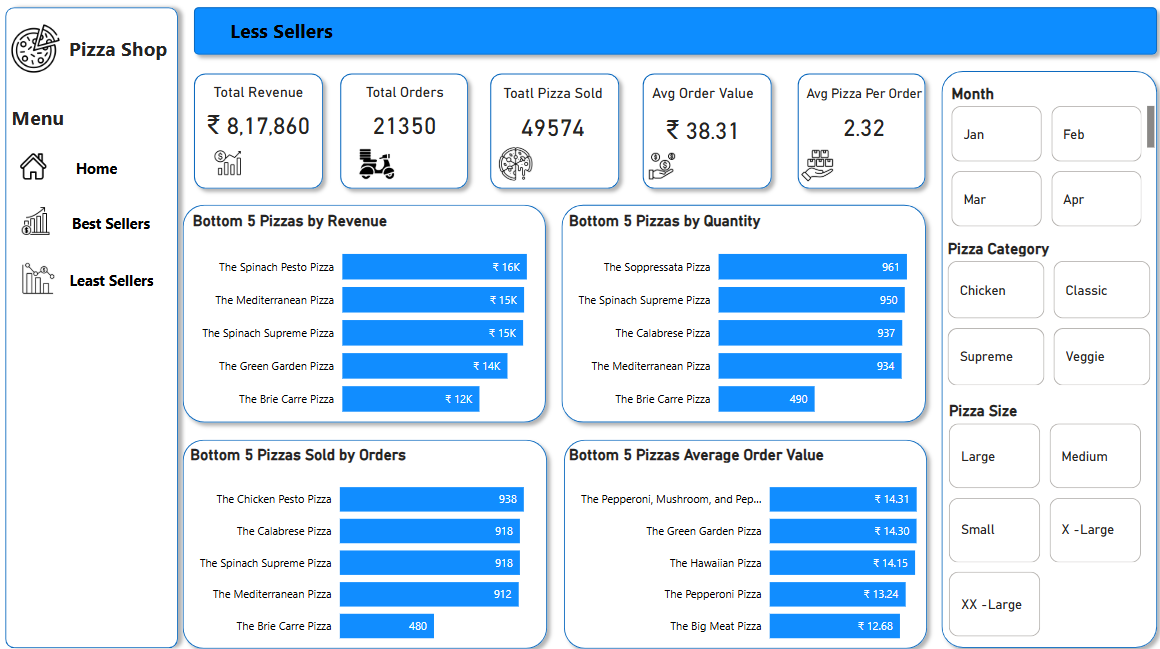

What the dashboard file says about the page in this screenshot:
{"tool":"powerbi","page":{"name":"Less Sellers","canvas":[1280,720],"ordinal":2},"visuals":[{"type":"shape","box":[207.1,0,1072.9,70],"z":0},{"type":"shape","box":[0,0,207.1,720],"z":1000},{"type":"shape","box":[194.9,473.4,417.2,247],"z":2000},{"type":"shape","box":[207.2,72.7,159.2,144.1],"z":3000},{"type":"shape","box":[194.9,216.8,415.8,256.6],"z":4000},{"type":"shape","box":[1025.7,70,254.3,650],"z":5000},{"type":"shape","box":[609.3,216.8,417.2,256.6],"z":6000},{"type":"shape","box":[612,473.4,415.8,247],"z":7000},{"type":"shape","box":[366.4,72.7,157.8,144.1],"z":8000},{"type":"shape","box":[531,72.7,159.2,144.1],"z":9000},{"type":"shape","box":[698.5,72.7,159.2,144.1],"z":10000},{"type":"shape","box":[868.6,72.7,157.8,144.1],"z":11000},{"type":"card","title":"Total Revenue","fields":{"Values":["pizza_sales.Total Revenue"]},"box":[207.2,93.3,159.2,76.8],"z":12000},{"type":"textbox","box":[142.9,15.7,338.6,50],"z":13000},{"type":"image","box":[219.6,160.5,67.2,38.4],"z":14000},{"type":"card","title":"Total Orders","fields":{"Values":["pizza_sales.Total Orders"]},"box":[377.4,93.3,137.2,76.8],"z":15000},{"type":"card","title":"Toatl Pizza Sold","fields":{"Values":["pizza_sales.Total Pizzas Sold"]},"box":[509.1,94.7,199,79.6],"z":16000},{"type":"card","title":"Avg Order Value","fields":{"Values":["pizza_sales.Average Order Value"]},"box":[698.5,94.7,149.6,85.1],"z":17000},{"type":"card","title":"Avg Pizza Per Order","fields":{"Values":["pizza_sales.Avg Pizzas Per Order"]},"box":[874.1,94.7,152.3,79.6],"z":18000},{"type":"image","box":[874.1,160.5,49.4,45.3],"z":19000},{"type":"image","box":[708.1,160.5,41.2,45.3],"z":20000},{"type":"image","box":[388.3,152.3,54.9,57.6],"z":21000},{"type":"image","box":[544.8,157.8,46.7,46.7],"z":22000},{"type":"image","box":[11.4,15.7,62.9,78.6],"z":23000},{"type":"image","box":[20,160,38.6,45.7],"z":24000},{"type":"image","box":[15.7,222.9,54.3,40],"z":25000},{"type":"image","box":[20,278.6,50,55.7],"z":26000},{"type":"advancedSlicerVisual","title":"Pizza Category","fields":{"Values":["pizza_sales.pizza_category"]},"box":[1037.1,262.9,232.9,165.7],"z":27000},{"type":"advancedSlicerVisual","title":"Pizza Size","fields":{"Values":["pizza_sales.Pizza Size Full"]},"box":[1038.6,441.4,220,264.3],"z":28000},{"type":"actionButton","title":"HOME","box":[74.3,217.1,101.4,55.7],"z":29000},{"type":"textbox","box":[74.3,34.3,135.7,42.9],"z":30000},{"type":"textbox","box":[11.4,110,94.3,42.9],"z":31000},{"type":"actionButton","box":[75.7,287.1,100,40],"z":32000},{"type":"actionButton","box":[58.6,164.3,100,40],"z":33000},{"type":"barChart","title":"Bottom 5 Pizzas by Revenue","fields":{"Category":["pizza_sales.pizza_name"],"Y":["pizza_sales.Total Revenue"]},"box":[210,232.9,430,240],"z":34000},{"type":"barChart","title":"Bottom 5 Pizzas by Quantity","fields":{"Category":["pizza_sales.pizza_name"],"Y":["pizza_sales.Total Pizzas Sold"]},"box":[621.4,232.9,405.7,240],"z":35000},{"type":"barChart","title":"Bottom 5 Pizzas Sold by Orders","fields":{"Category":["pizza_sales.pizza_name"],"Y":["pizza_sales.Total Orders"]},"box":[207.1,488.6,401.4,231.4],"z":36000},{"type":"barChart","title":"Bottom 5 Pizzas Average Order Value","fields":{"Category":["pizza_sales.pizza_name"],"Y":["pizza_sales.Average Order Value"]},"box":[621.4,488.6,430,231.4],"z":37000},{"type":"advancedSlicerVisual","title":"Month","fields":{"Values":["pizza_sales.Month_Short"]},"box":[1040,92.9,232.9,162.9],"z":38000}]}

Visuals, with their boxes on the page's 1280x720 design canvas (x1, y1, x2, y2). These are canvas units, not pixel positions in the 1160x649 screenshot, which may show the page scaled, cropped or inside an application window:
shape: x1=207 y1=0 x2=1280 y2=70
shape: x1=0 y1=0 x2=207 y2=720
shape: x1=195 y1=473 x2=612 y2=720
shape: x1=207 y1=73 x2=366 y2=217
shape: x1=195 y1=217 x2=611 y2=473
shape: x1=1026 y1=70 x2=1280 y2=720
shape: x1=609 y1=217 x2=1026 y2=473
shape: x1=612 y1=473 x2=1028 y2=720
shape: x1=366 y1=73 x2=524 y2=217
shape: x1=531 y1=73 x2=690 y2=217
shape: x1=698 y1=73 x2=858 y2=217
shape: x1=869 y1=73 x2=1026 y2=217
"Total Revenue" card: x1=207 y1=93 x2=366 y2=170
textbox: x1=143 y1=16 x2=482 y2=66
image: x1=220 y1=160 x2=287 y2=199
"Total Orders" card: x1=377 y1=93 x2=515 y2=170
"Toatl Pizza Sold" card: x1=509 y1=95 x2=708 y2=174
"Avg Order Value" card: x1=698 y1=95 x2=848 y2=180
"Avg Pizza Per Order" card: x1=874 y1=95 x2=1026 y2=174
image: x1=874 y1=160 x2=924 y2=206
image: x1=708 y1=160 x2=749 y2=206
image: x1=388 y1=152 x2=443 y2=210
image: x1=545 y1=158 x2=592 y2=204
image: x1=11 y1=16 x2=74 y2=94
image: x1=20 y1=160 x2=59 y2=206
image: x1=16 y1=223 x2=70 y2=263
image: x1=20 y1=279 x2=70 y2=334
"Pizza Category" advancedSlicerVisual: x1=1037 y1=263 x2=1270 y2=429
"Pizza Size" advancedSlicerVisual: x1=1039 y1=441 x2=1259 y2=706
"HOME" actionButton: x1=74 y1=217 x2=176 y2=273
textbox: x1=74 y1=34 x2=210 y2=77
textbox: x1=11 y1=110 x2=106 y2=153
actionButton: x1=76 y1=287 x2=176 y2=327
actionButton: x1=59 y1=164 x2=159 y2=204
"Bottom 5 Pizzas by Revenue" barChart: x1=210 y1=233 x2=640 y2=473
"Bottom 5 Pizzas by Quantity" barChart: x1=621 y1=233 x2=1027 y2=473
"Bottom 5 Pizzas Sold by Orders" barChart: x1=207 y1=489 x2=608 y2=720
"Bottom 5 Pizzas Average Order Value" barChart: x1=621 y1=489 x2=1051 y2=720
"Month" advancedSlicerVisual: x1=1040 y1=93 x2=1273 y2=256
